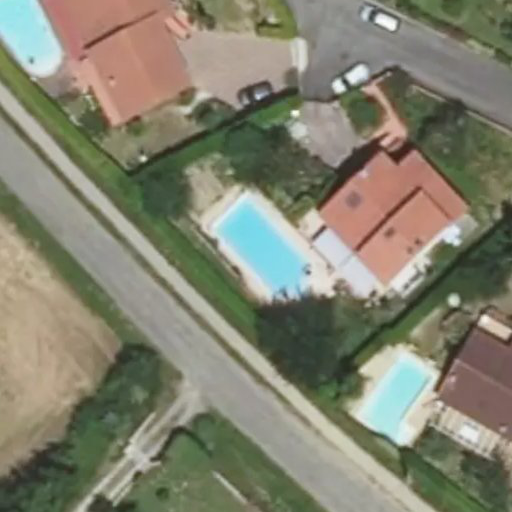pool: (211, 224, 302, 259)
